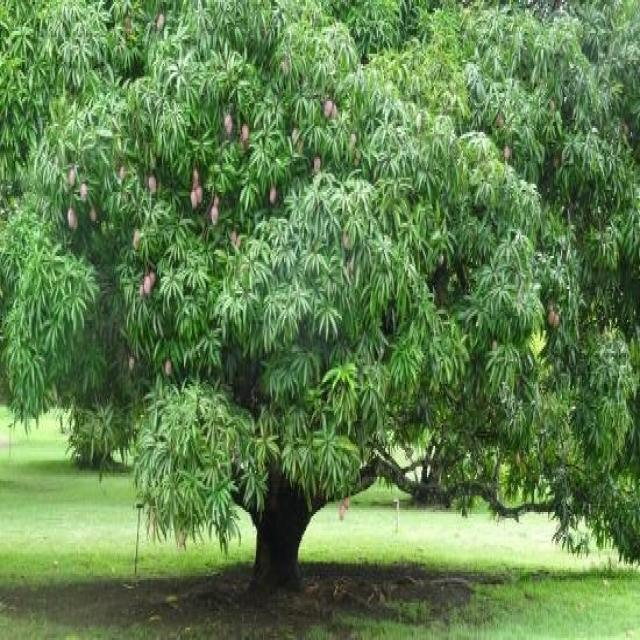Mango-Tree: (2, 5, 638, 559)
